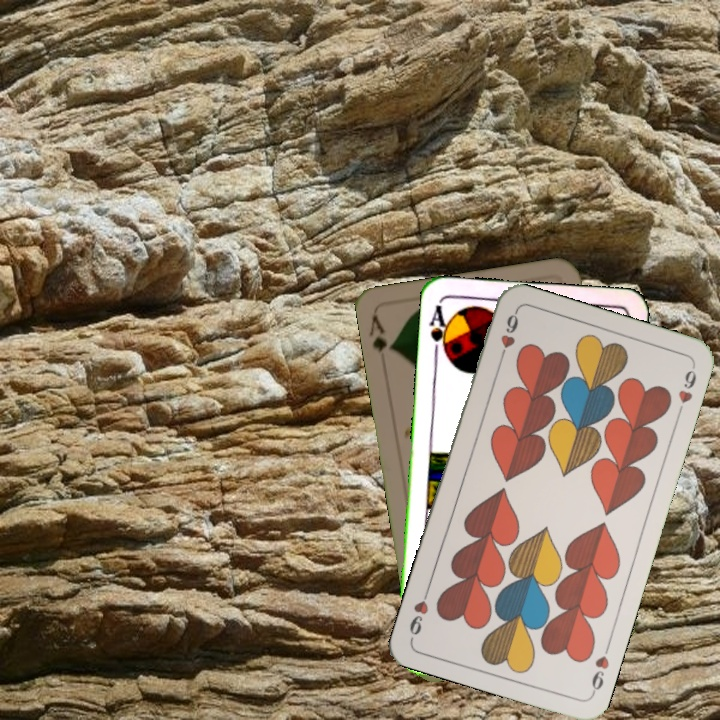GA: (366, 312, 396, 355)
H9: (587, 640, 613, 698), (495, 308, 521, 365)
SA: (426, 301, 453, 360)
